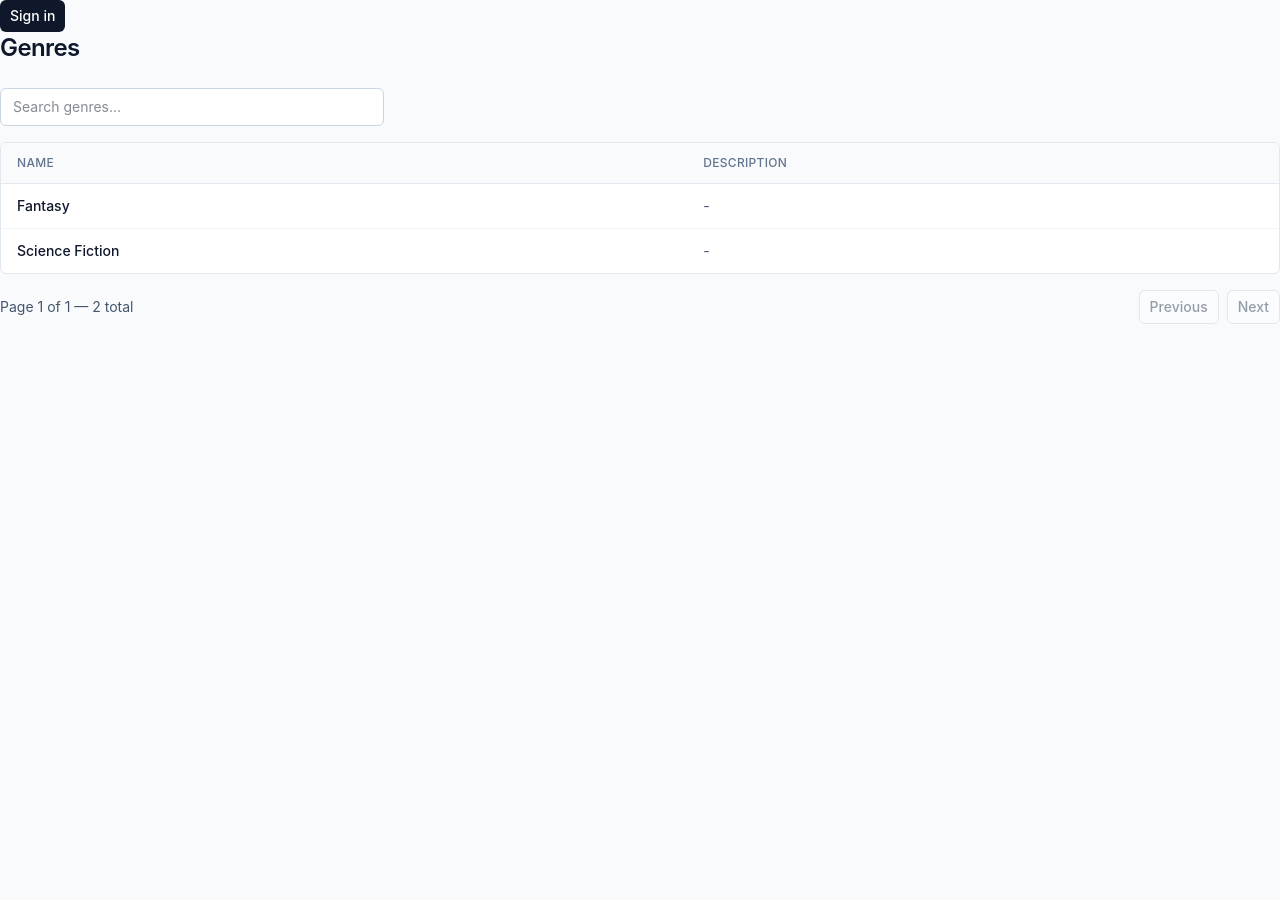
Test: Genres › creates a genre and shows it without a manual refresh
This screenshot has width=1280, height=900.
Click the button "Sign in" at [33, 16], box x1=0 y1=0 x2=65 y2=32
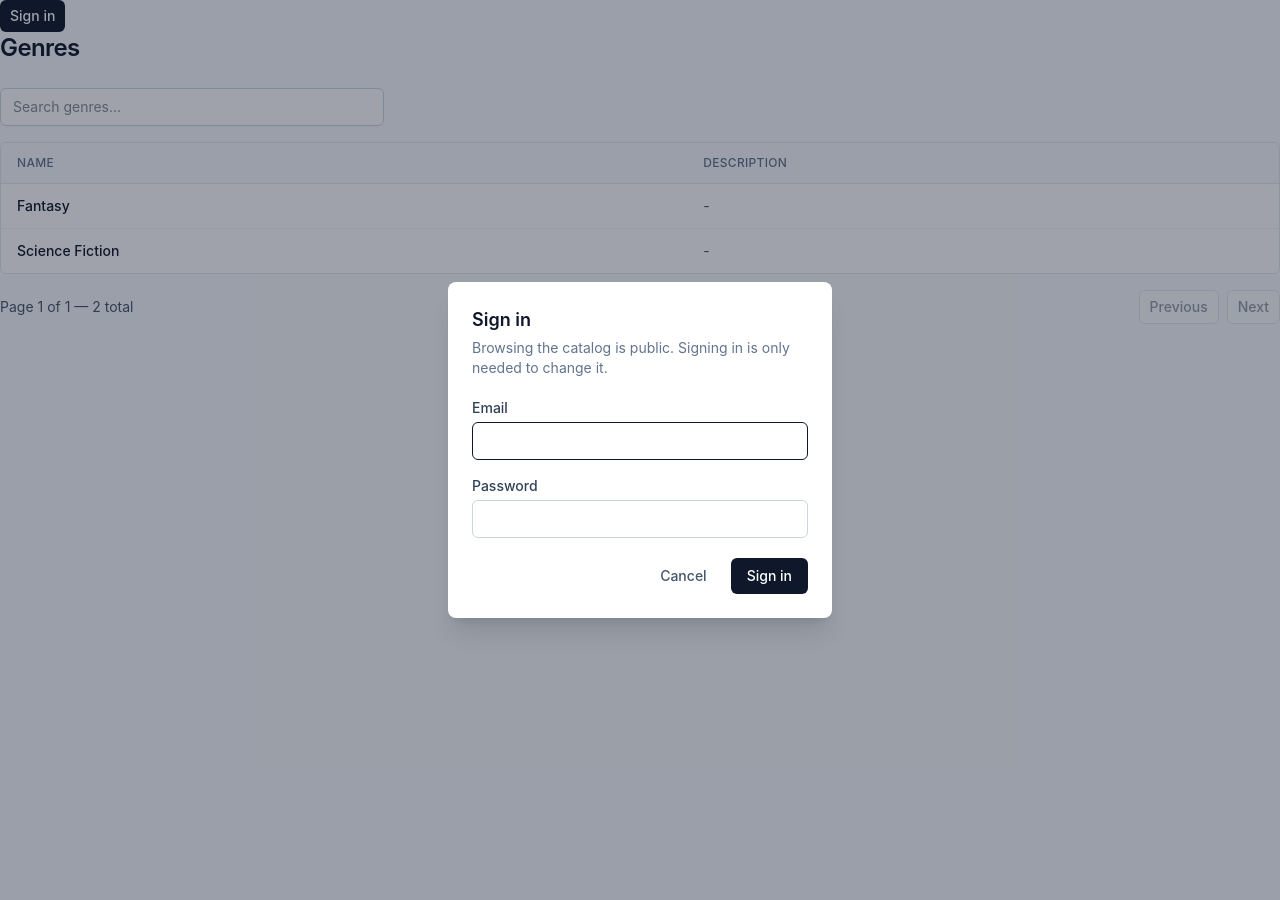
Type "admin@librarycatalog.dev" into the field labelled "Email" at [640, 441], box x1=472 y1=422 x2=808 y2=460
Type "Admin@123" into the password field labelled "Password" at [640, 519], box x1=472 y1=500 x2=808 y2=538
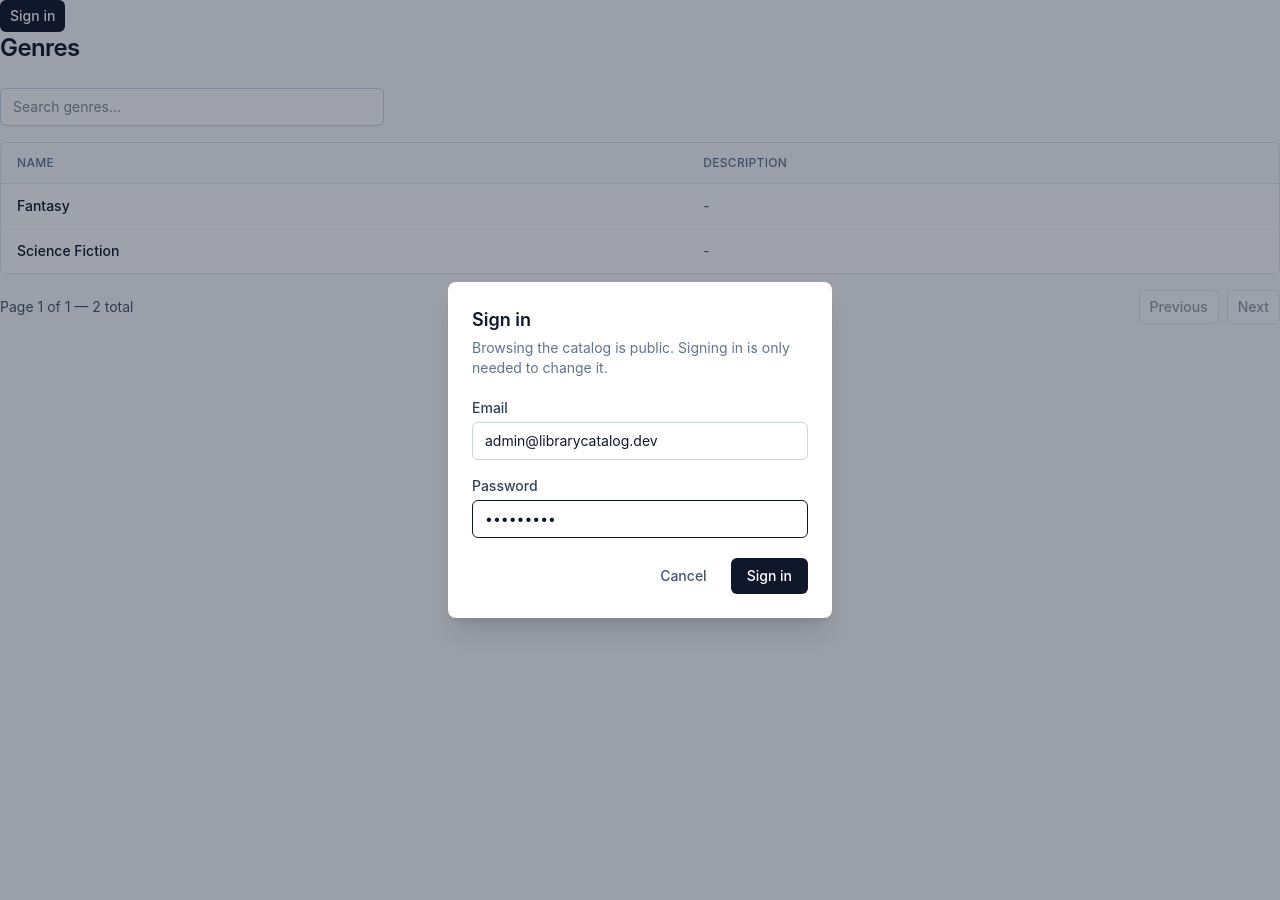
Click the button "Sign in" below "Password" at [769, 576], box x1=731 y1=558 x2=808 y2=594
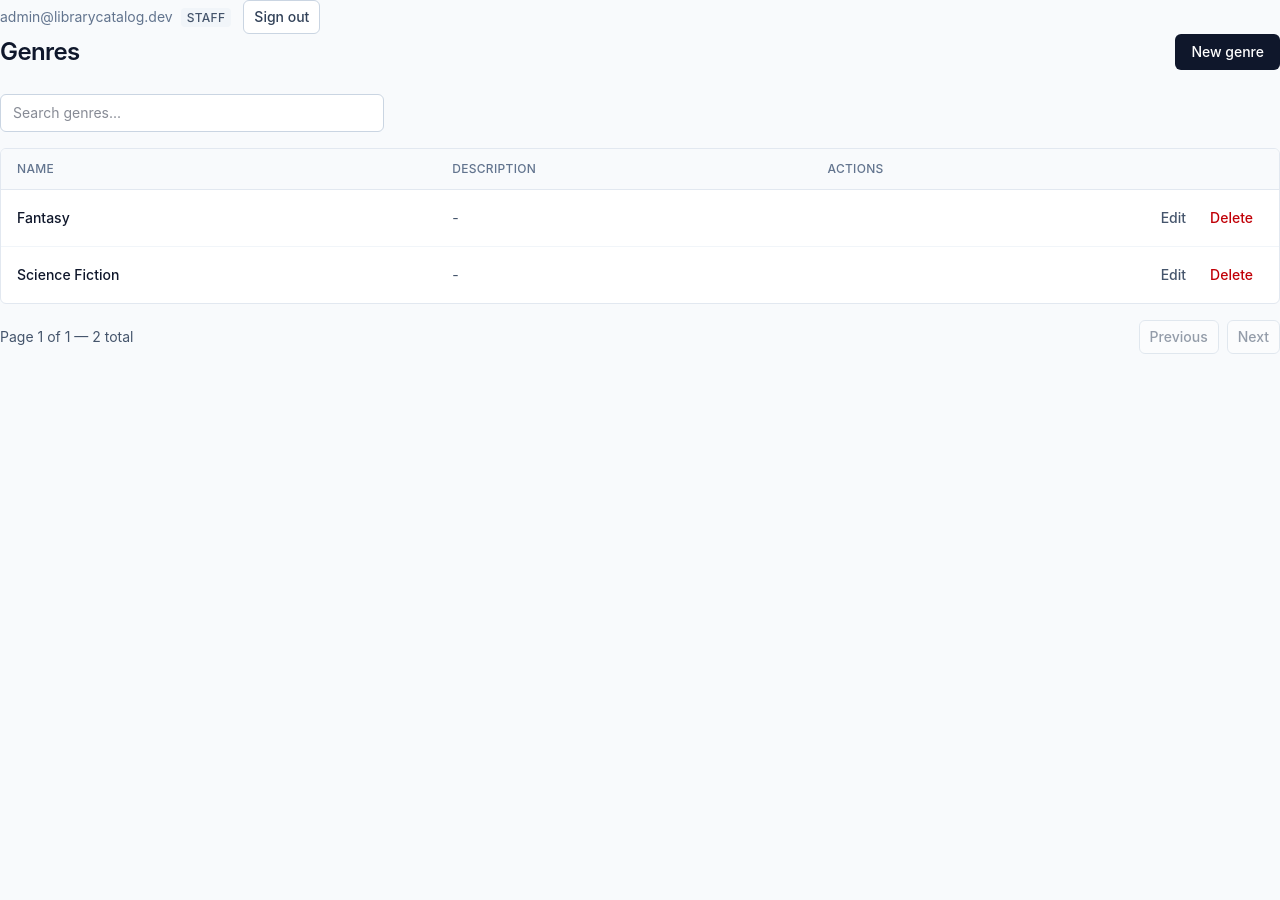
Expected: the dialog is gone
Click the button "New genre" at [1228, 52], box x1=1175 y1=34 x2=1279 y2=70
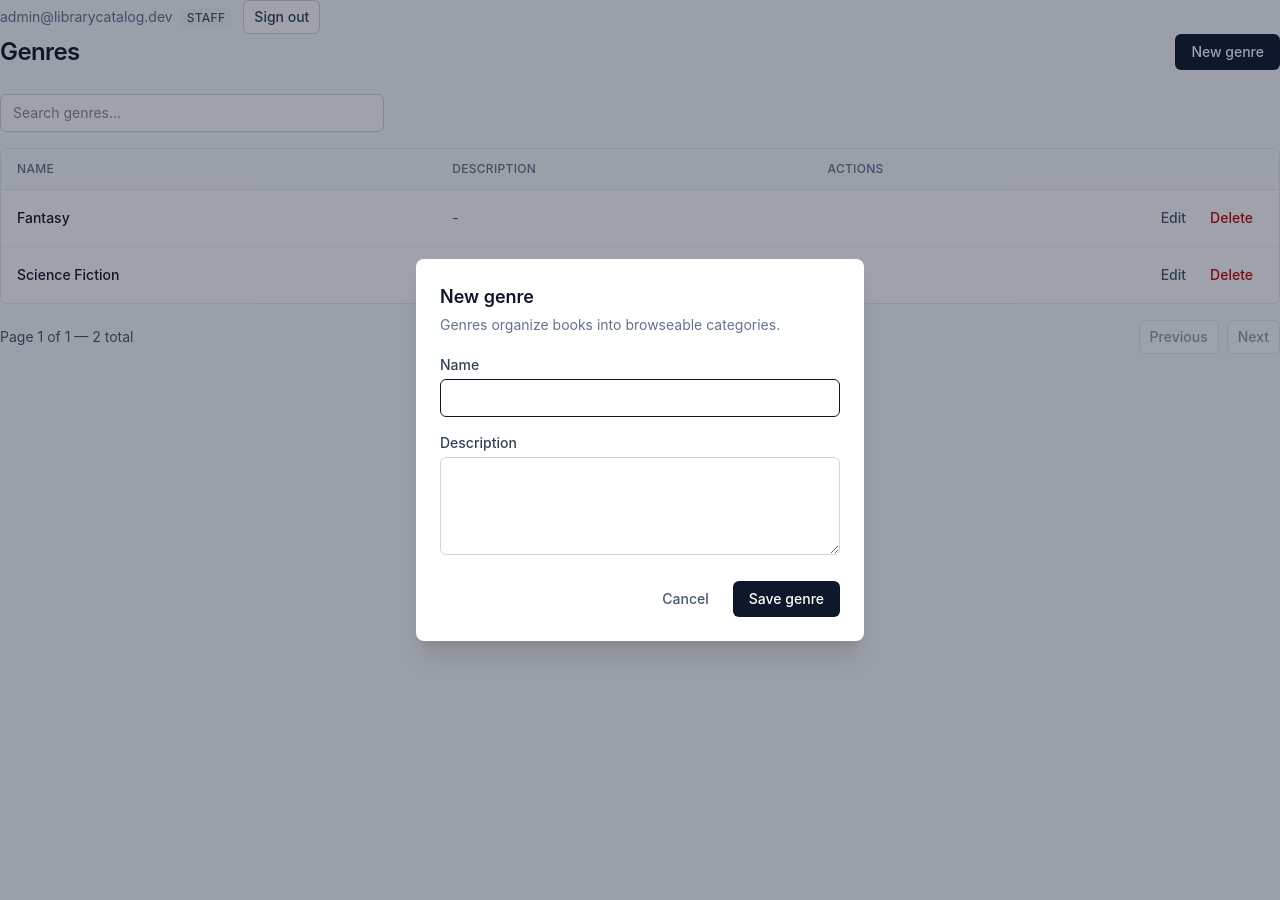
Type "Horror" into the field labelled "Name" at [640, 398], box x1=440 y1=379 x2=840 y2=417
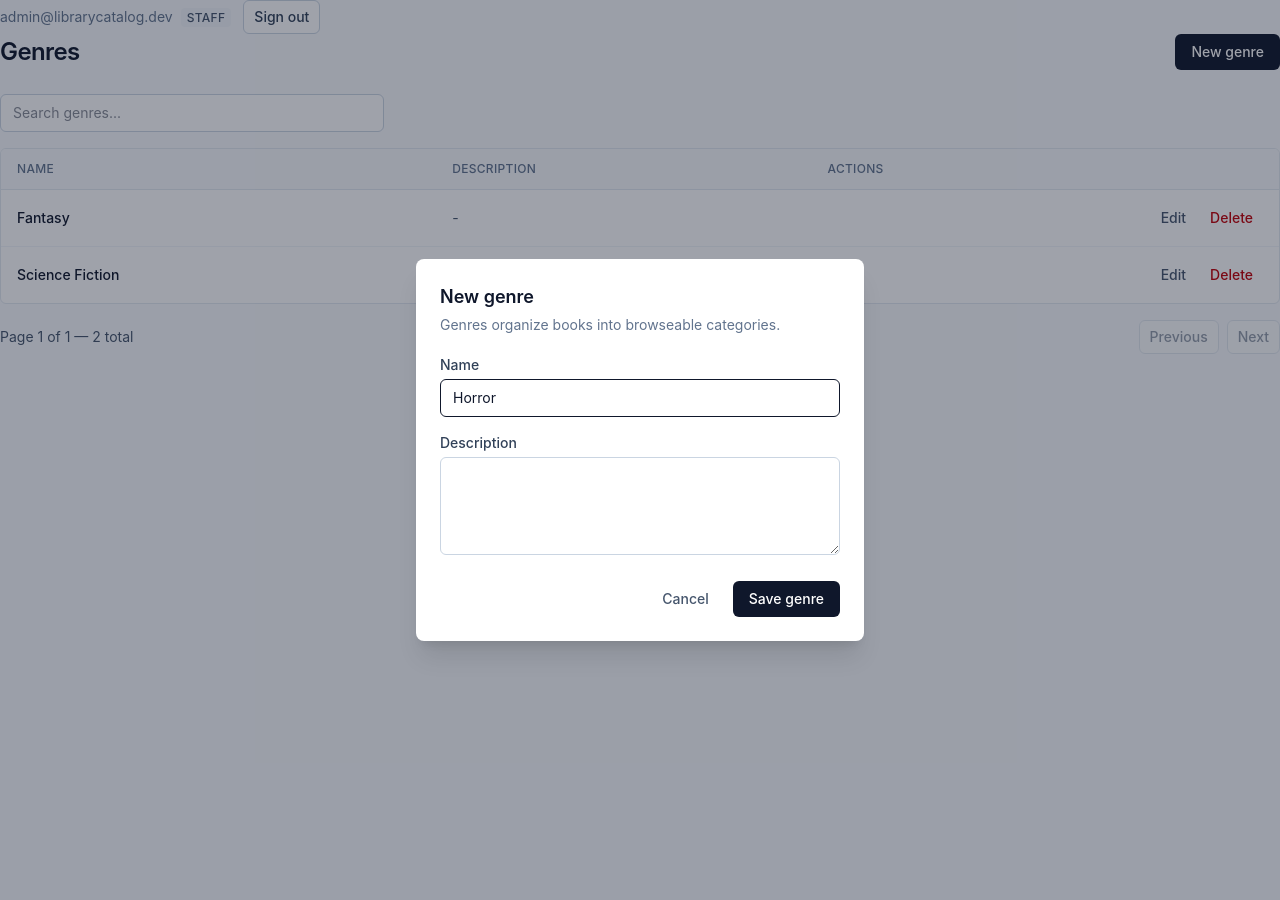
Click the button "Save genre" at [786, 599], box x1=733 y1=581 x2=840 y2=617
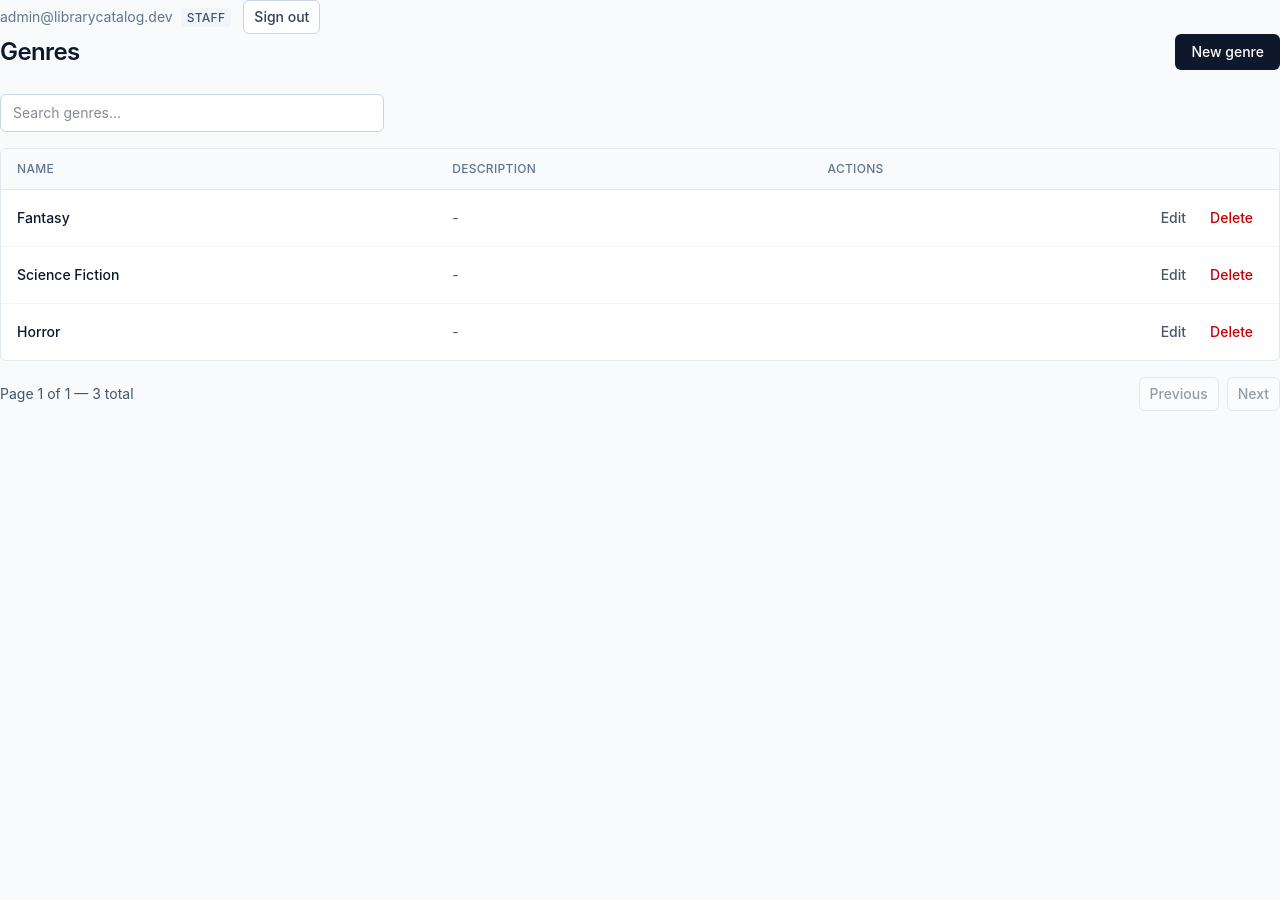
Expected: the link "Horror" is shown, x1=17 y1=323 x2=60 y2=340
